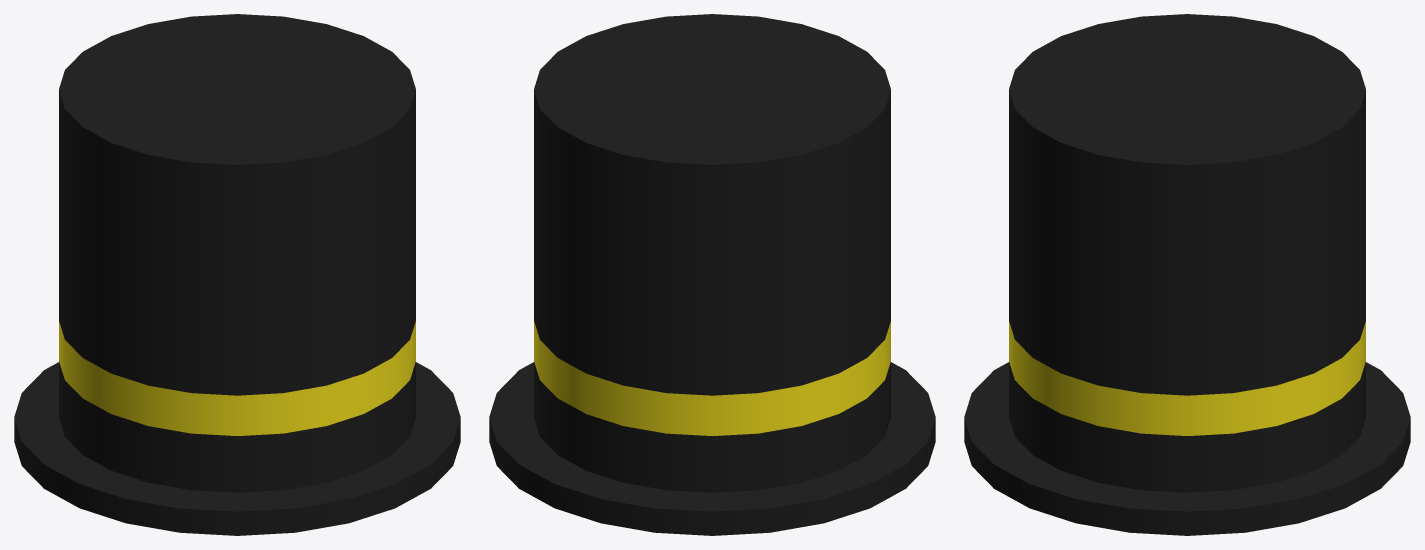
File: TopHat.fbx
3 renders of one model, left to right at view 1: azimuth 30°, elevation 25°; view 2: azimuth 150°, elevation 25°; view 3: azimuth 270°, elevation 25°, orthographic.
Parts seen in each view (by area): view 1: mergedBlocks; view 2: mergedBlocks; view 3: mergedBlocks.
Boxes of the visible parts, x1,y1,x2,y2 form: mergedBlocks: [14, 14, 460, 535]; mergedBlocks: [489, 14, 935, 535]; mergedBlocks: [964, 14, 1410, 535].
Size of the model in its own units: 10 by 8.7 by 10.
